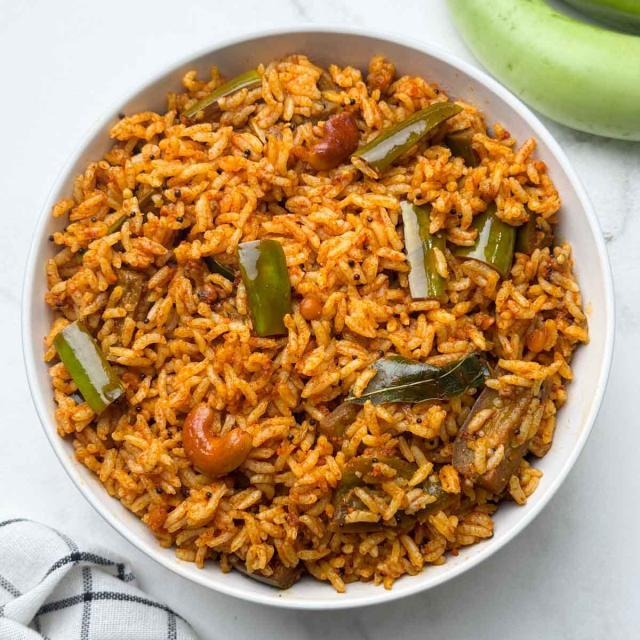vangi bath: (18, 43, 607, 605)
